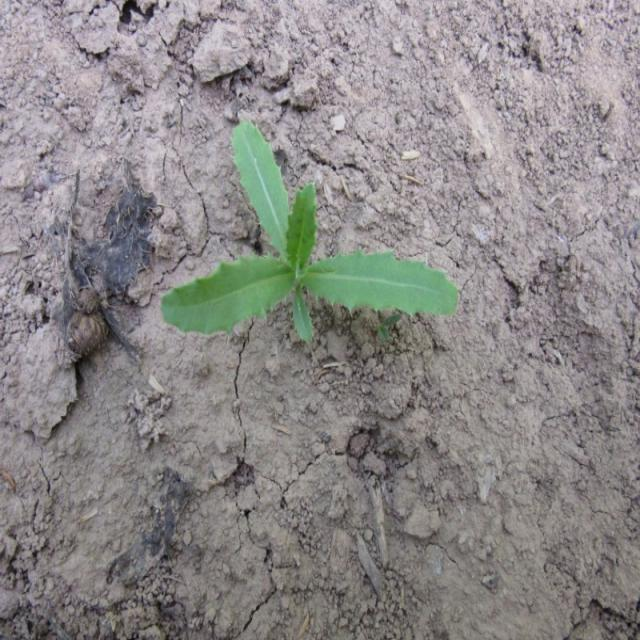field_thistle: (146, 92, 462, 335)
